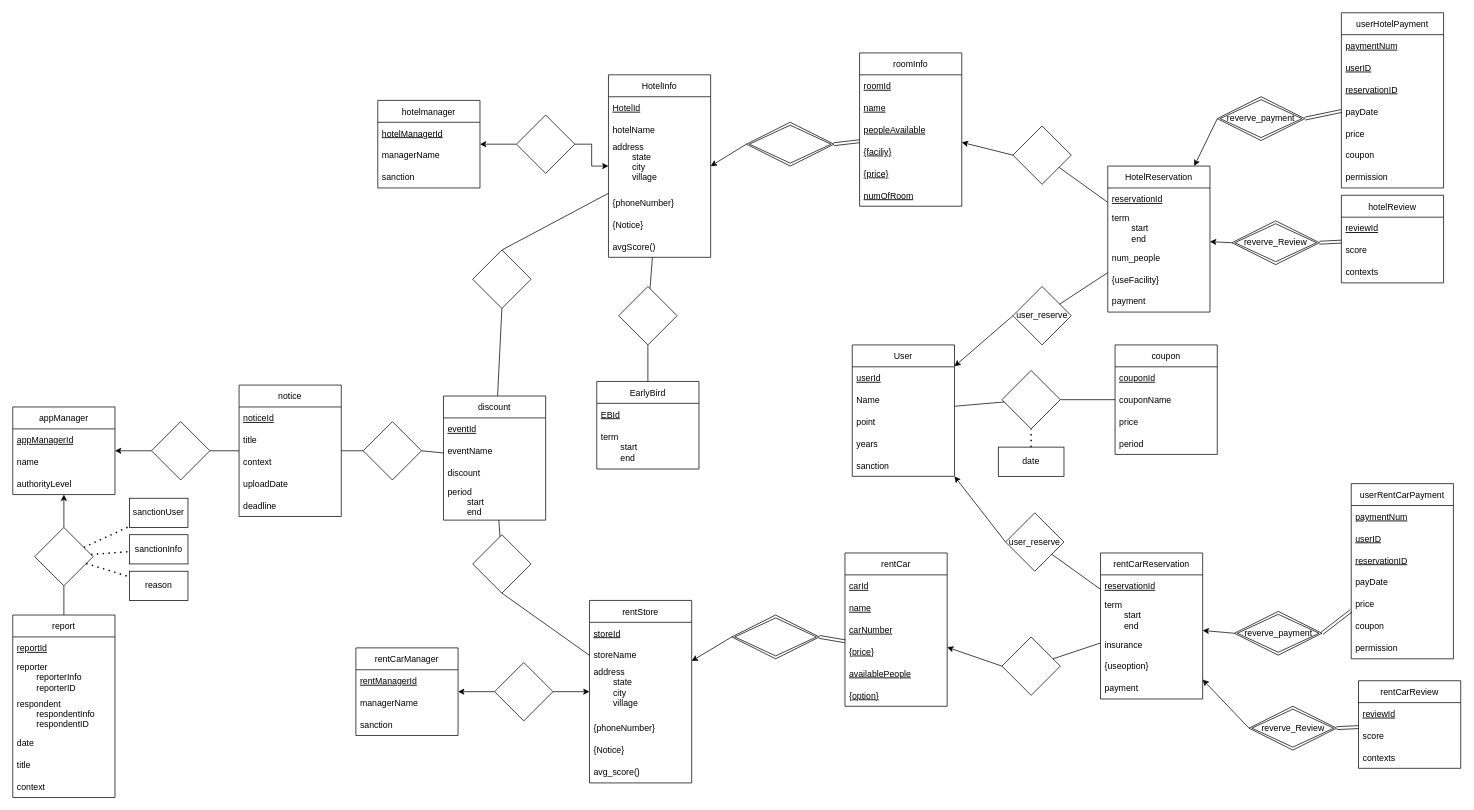
This 1474x810 diagram has some shape labels left out. The centre of each missing label's shape, as x and y in pixels:
AM_notice: the point at 180,450
car_reserve: the point at 1030,665
Hotel_DC: the point at 501,278
Hotel_EB: the point at 647,315
hotel_room: the point at 790,144
man_hotel: the point at 545,143
man_rent: the point at 523,691
notice_DC: the point at 392,450
process: the point at 63,556
rent_DC: the point at 501,563
room_reserve: the point at 1041,154
store_car: the point at 775,636
user_coupon: the point at 1030,399
